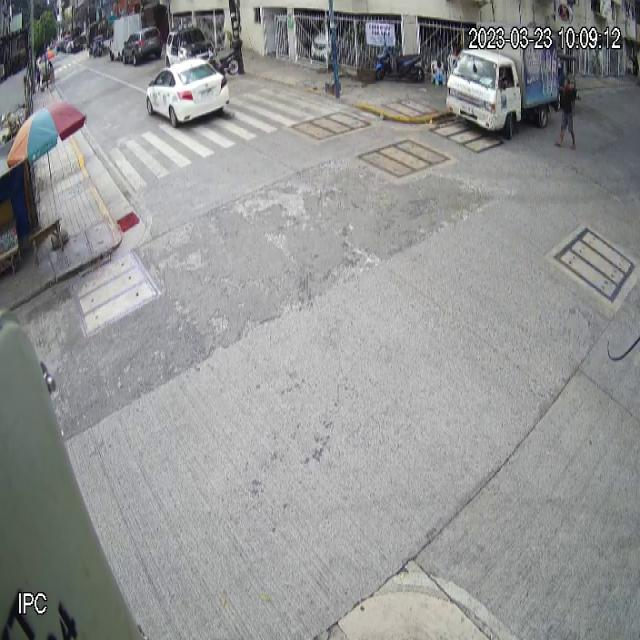Car: (147, 60, 230, 128)
Truck: (446, 44, 561, 140)
